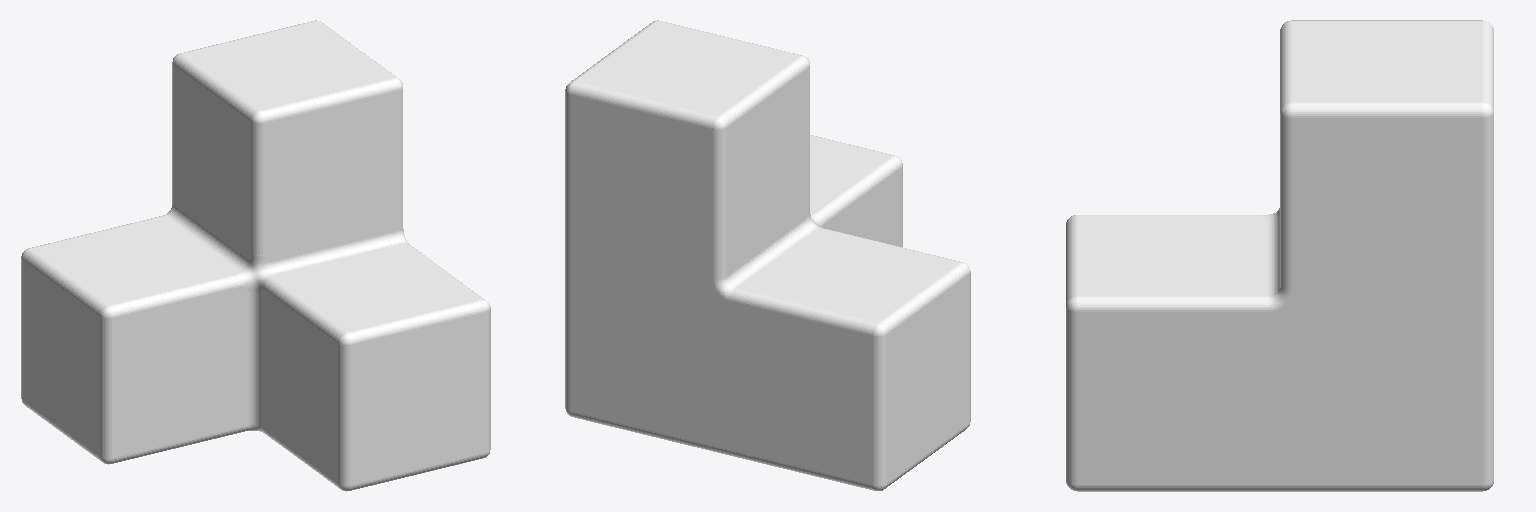
URDF robot description (cube5):
<robot name="cube5">
	<link name="baseLink">
    	<contact>
      		<lateral_friction value="0.5" />
      		<rolling_friction value="0.0" />
      		<contact_cfm value="0.0" />
      		<contact_erp value="1.0" />
    	</contact>
		<visual>
			<origin rpy="0.0 0.0 0.0" xyz="-0.47505633808930664 -0.46505633777622535 -0.13494366473937305" />
			<geometry>
				<mesh filename="cubes/cube5.obj" scale="0.01 0.01 0.01" />
			</geometry>
			<material name="texture">
				<color rgba="1.0 1.0 1.0 1.0" />
			</material>
		</visual>
		<collision>
			<origin rpy="0.0 0.0 0.0" xyz="-0.47505633808930664 -0.46505633777622535 -0.13494366473937305" />
			<geometry>
				<mesh filename="cubes/cube5_vhacd.obj" scale="0.01 0.01 0.01" />
			</geometry>
		</collision>
		<inertial>
			<origin rpy="0 0 0" xyz="0 0 0" />
			<mass value="0.5" />
			<inertia ixx="0.01" ixy="0.0" ixz="0.0" iyy="0.01" iyz="0.0" izz="0.01" />
		</inertial>
	</link>
</robot>

--- Facts derived from the render (not from the file) ---
The picture shows the robot from 3 angles, left to right: view 1: azimuth 30°, elevation 25°; view 2: azimuth 150°, elevation 25°; view 3: azimuth 270°, elevation 25°; orthographic projection.
Robot: cube5 — 1 links, 0 joints (none); root link baseLink; default pose: all joints at 0.
Visible links, largest first — view 1: baseLink; view 2: baseLink; view 3: baseLink.
Link boxes in pixels (x1,y1,x2,y2): baseLink: [21, 20, 490, 491]; baseLink: [565, 20, 970, 490]; baseLink: [1066, 20, 1493, 491].
Size in the robot's own frame: 0.36 by 0.36 by 0.36 metres.
Meshes: 1 distinct files referenced, 1 mesh visuals loaded (1 OBJ).